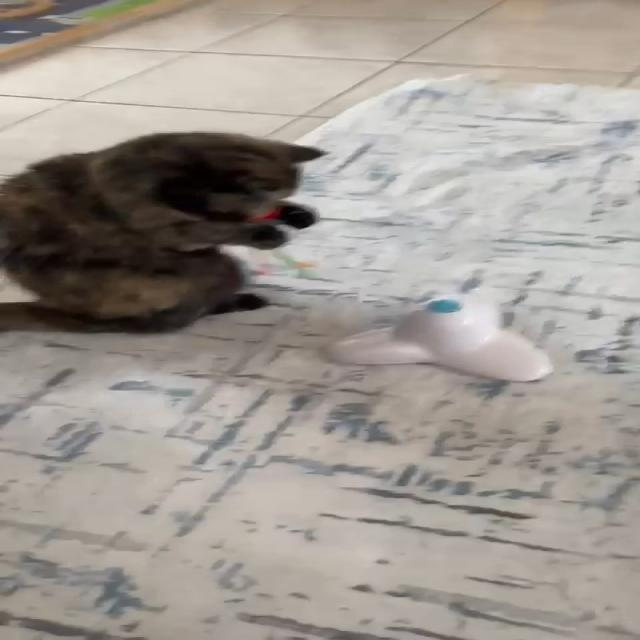authorized: (0, 130, 329, 333)
